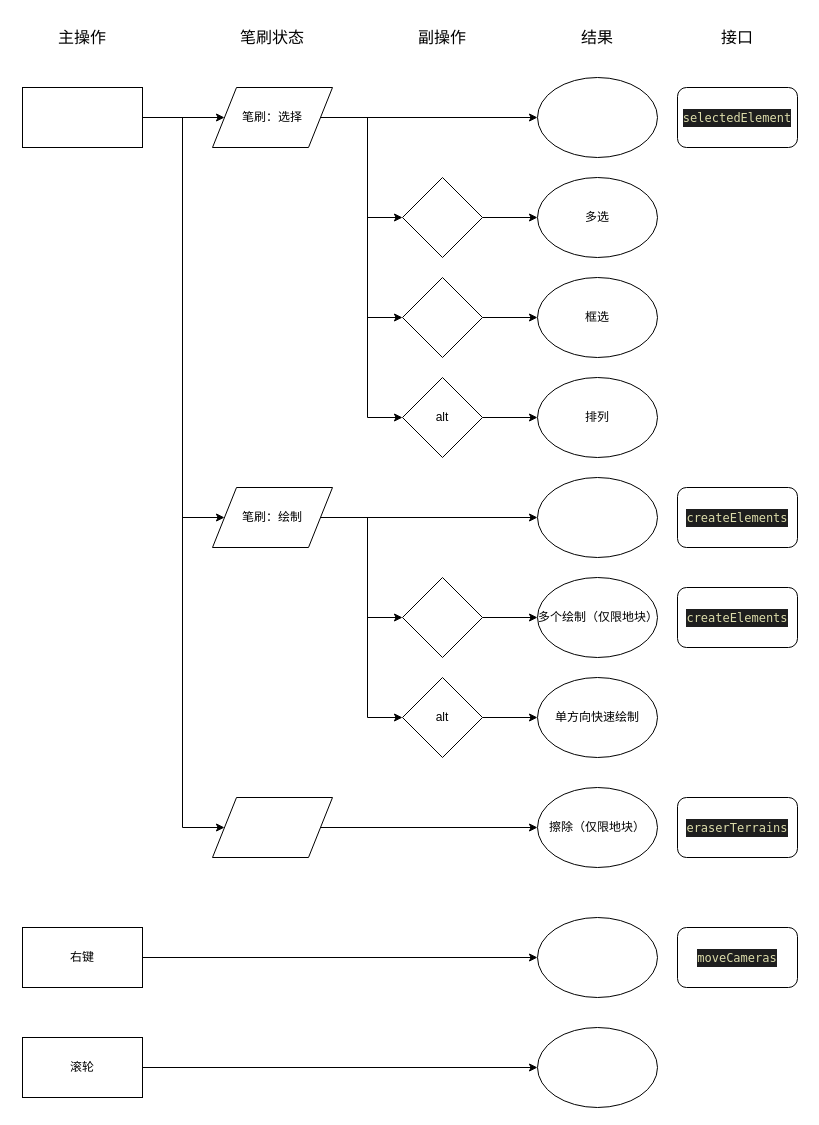
The diagram is 819 pixels wide and 1125 high, and some of its shapes have lost their labels. Here are the shapes that lost their labels. From the top down, the box of each, then its label:
(22, 86, 142, 148): 左键
(536, 76, 658, 158): 单选
(402, 176, 482, 258): ctrl
(402, 276, 482, 358): 选区
(536, 476, 658, 558): 单个绘制
(402, 576, 482, 658): ctrl+= ctrl+-
(212, 796, 332, 858): 笔刷：橡皮
(536, 916, 658, 998): 移动场景
(536, 1026, 658, 1108): 缩放镜头
